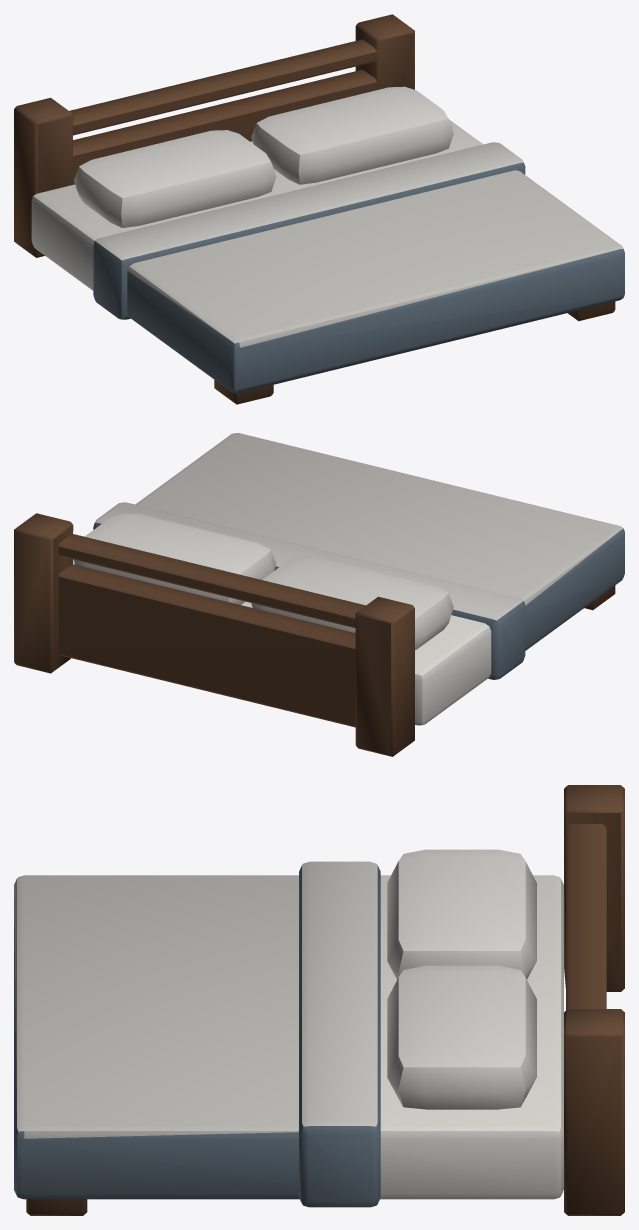
The model's file is bed.high.dbab4cf0.glb.
3 views of the same model, one above another, from view 1: azimuth 30°, elevation 25°; view 2: azimuth 150°, elevation 25°; view 3: azimuth 270°, elevation 25° (orthographic). The views are drawn at different scales.
Visible parts, largest first — view 1: bed; view 2: bed; view 3: bed.
Boxes of the visible parts, x1,y1,x2,y2 form: bed: (14,14,624,404); bed: (14,433,624,756); bed: (14,785,624,1215).
Size of the model in its own units: 2.1 by 0.6774 by 2.03.
